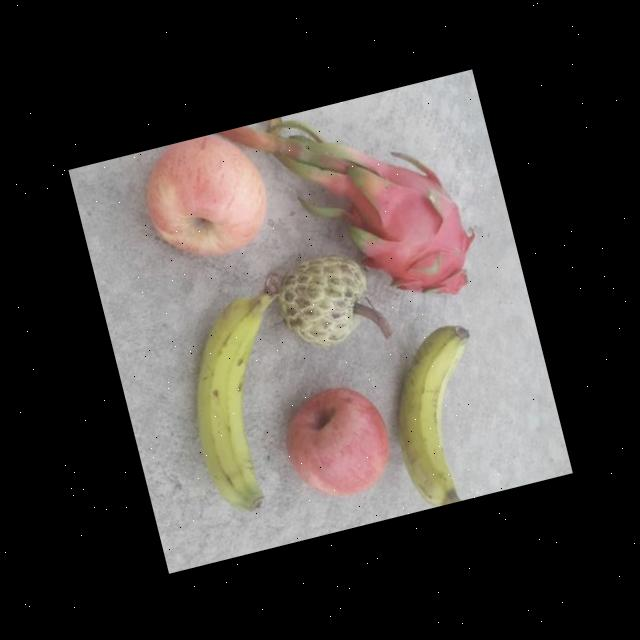Sakya fruit: (270, 242, 384, 352)
apple: (134, 124, 278, 268), (277, 373, 401, 509)
banana: (160, 270, 335, 520), (371, 314, 511, 511)
pitaya: (344, 146, 486, 312)
